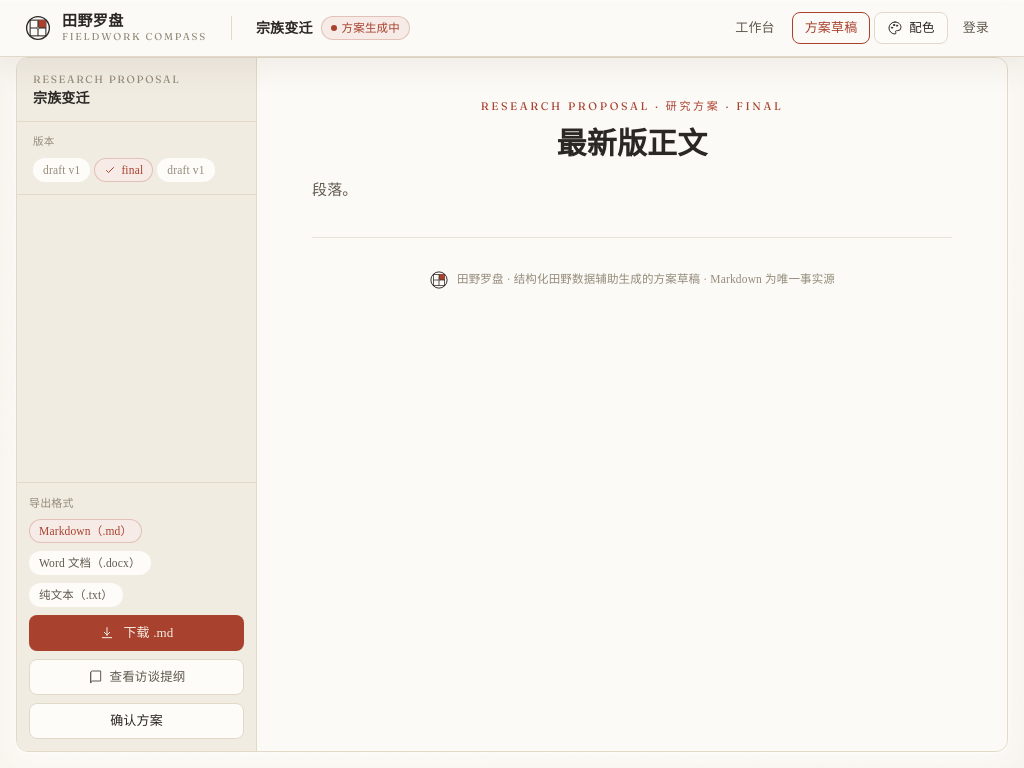
Test: ProposalView 版本/kind 加载与方案确认 › 点 kind 切换按钮加载访谈提纲正文（F13）
Check: the heading "最新版正文" is shown, box [557,126,707,160]
Click the button "查看访谈提纲" at (136, 677), box [29,659,244,695]
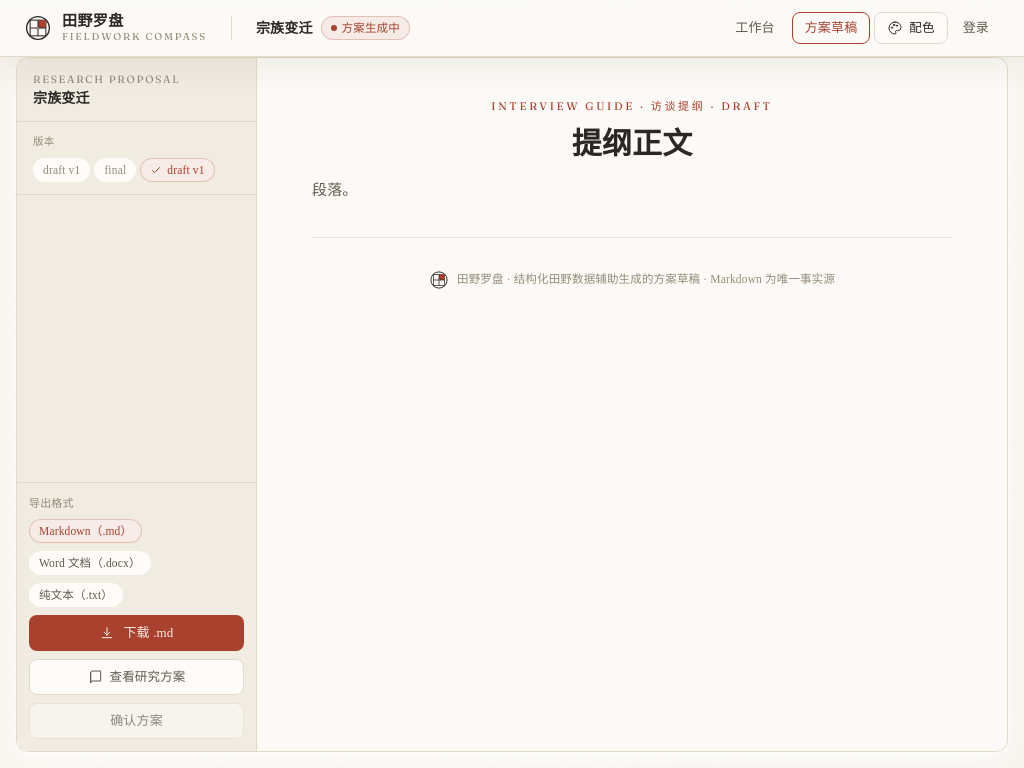
Check: the heading "提纲正文" is shown, box [572,126,692,160]
